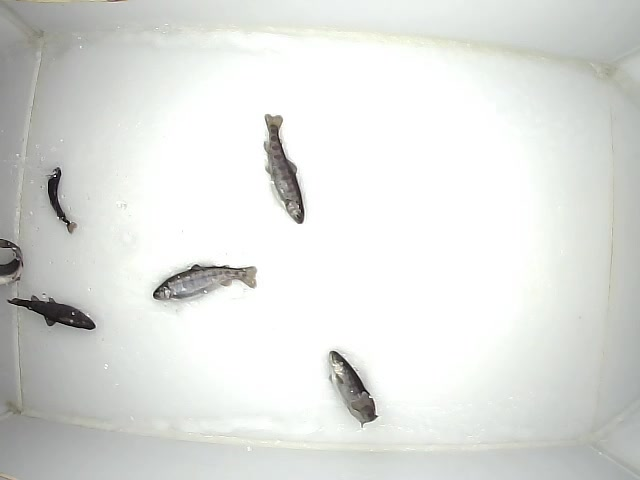fish: (259, 110, 305, 226), (150, 261, 259, 305), (323, 349, 379, 428), (4, 293, 98, 332), (45, 164, 80, 238)
